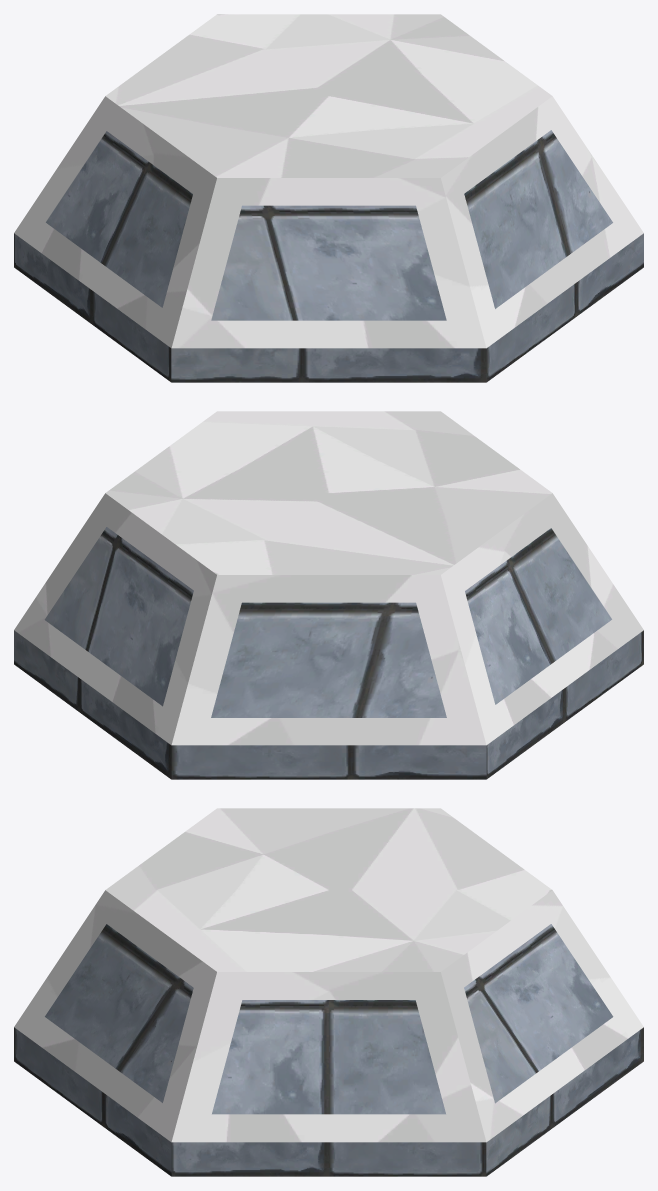
File: Lightning1.fbx
3 views of the same model, one above another, from view 1: azimuth 30°, elevation 25°; view 2: azimuth 150°, elevation 25°; view 3: azimuth 270°, elevation 25° (orthographic).
Parts seen in each view (by area): view 1: glass_ufo%_112; view 2: glass_ufo%_112; view 3: glass_ufo%_112.
Part boxes in pixels (box(x1,y1,x2,y2)): glass_ufo%_112: box(14, 14, 643, 382); glass_ufo%_112: box(14, 411, 643, 779); glass_ufo%_112: box(14, 808, 643, 1176).
Size of the model in its own units: 8.66 by 3 by 10.
